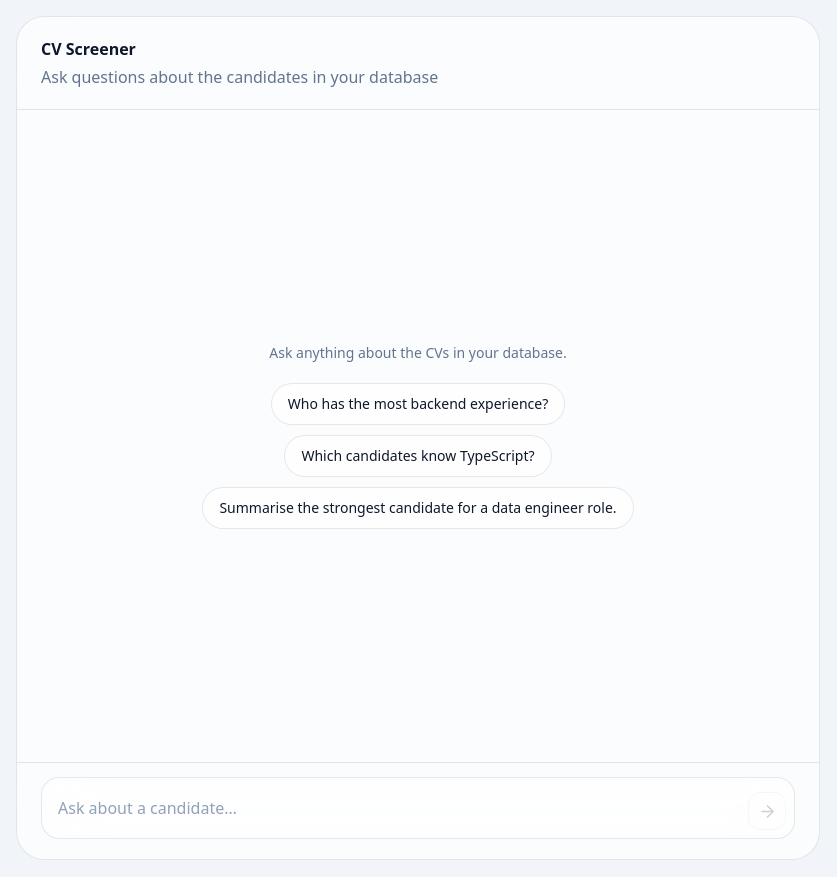
Test: ChatPage › renders matched candidates returned by the assistant
Click the button "Who has the most backend experience?" at point(418, 404), box [271,383,565,425]
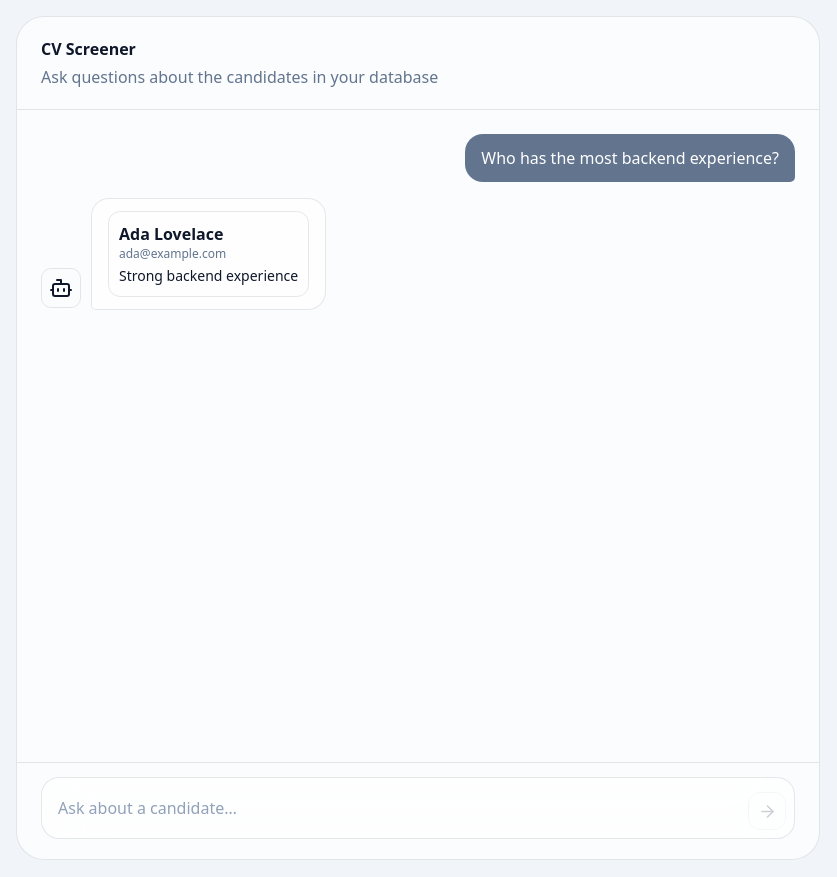
Expected: the text "Ada Lovelace" is shown, [119,223,223,245]
Expected: the text "ada@example.com" is shown, [119,245,226,262]
Expected: the text "Strong backend experience" is shown, [119,266,298,286]
